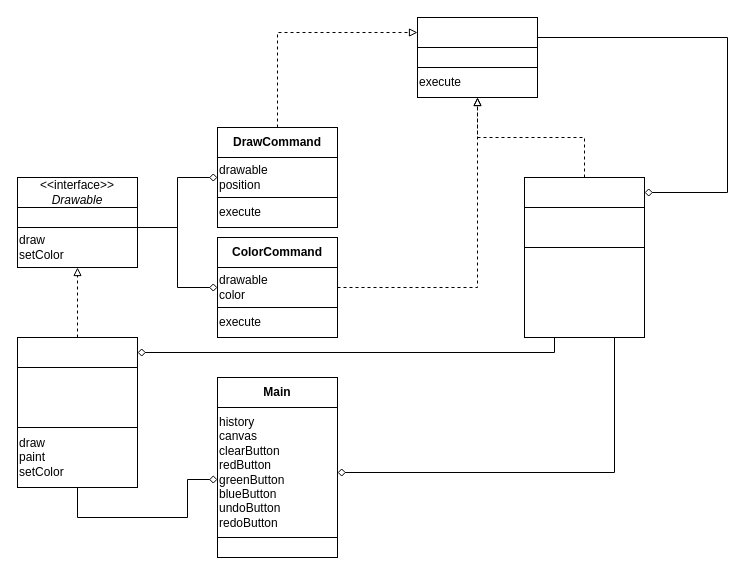
The diagram is 753 pixels wide and 575 high, and some of its shapes have lost their labels. The shapes that lost their labels are listed below. From the top down, each one's box as (x1, y1, x2, y2) in pixels, then its label:
(416, 16, 538, 48): <<interface>> Command
(524, 176, 644, 208): MacroCommand
(524, 206, 644, 248): commands cmds
(524, 246, 644, 338): execute append undo redo clear
(16, 336, 138, 368): DrawCanvas
(16, 366, 138, 428): history color radius
